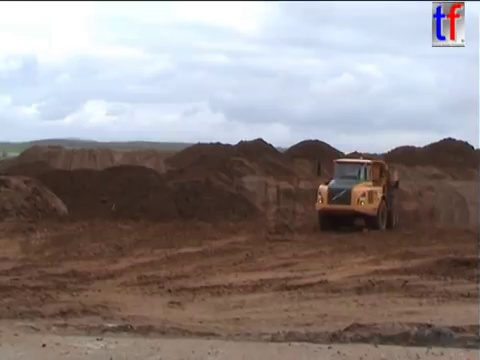truck: (312, 153, 401, 232)
